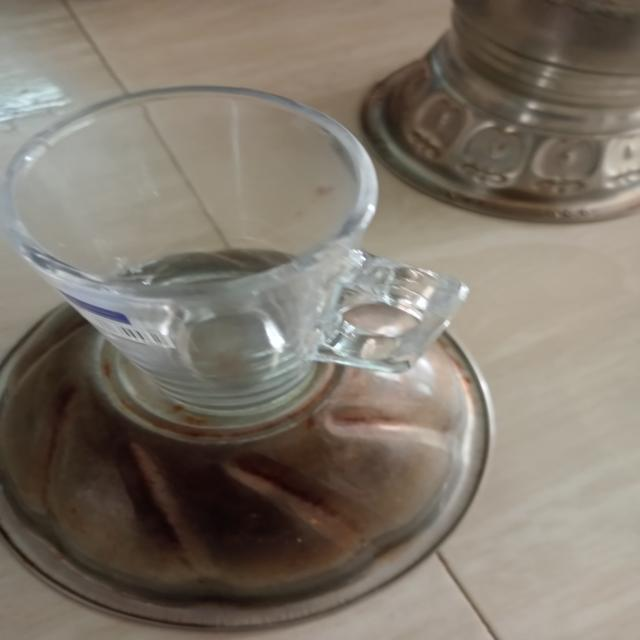glass-VX4N: (15, 74, 472, 417)
